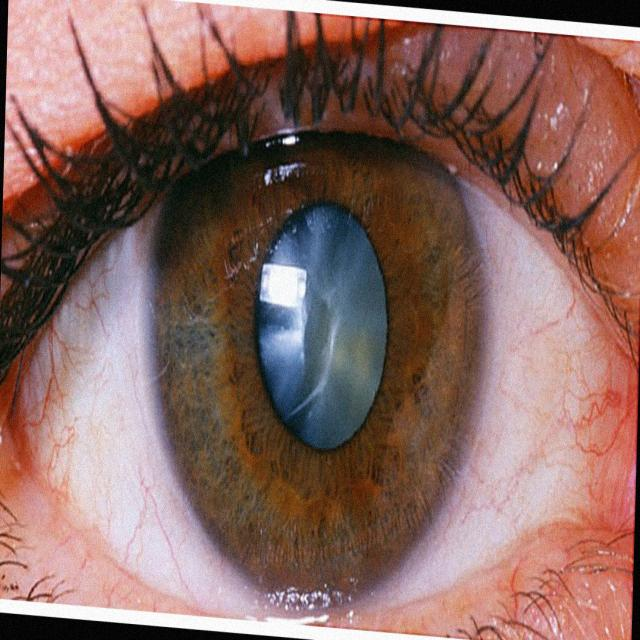Cataract: (158, 56, 459, 640)
